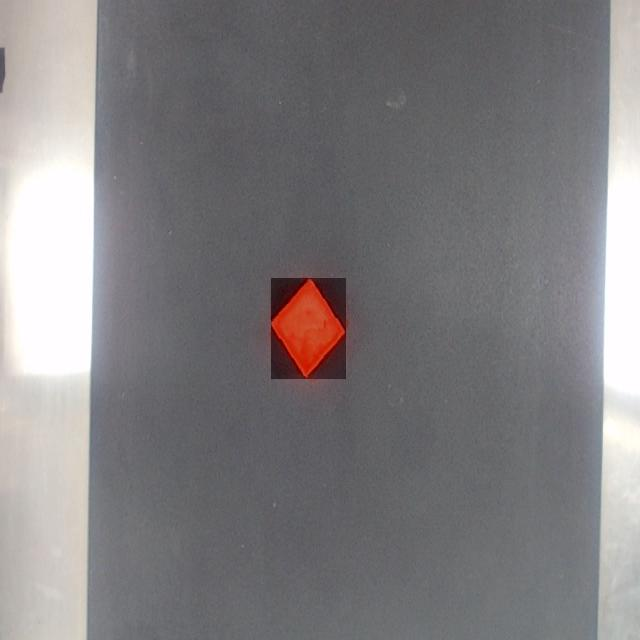Rojo: (271, 279, 346, 379)
